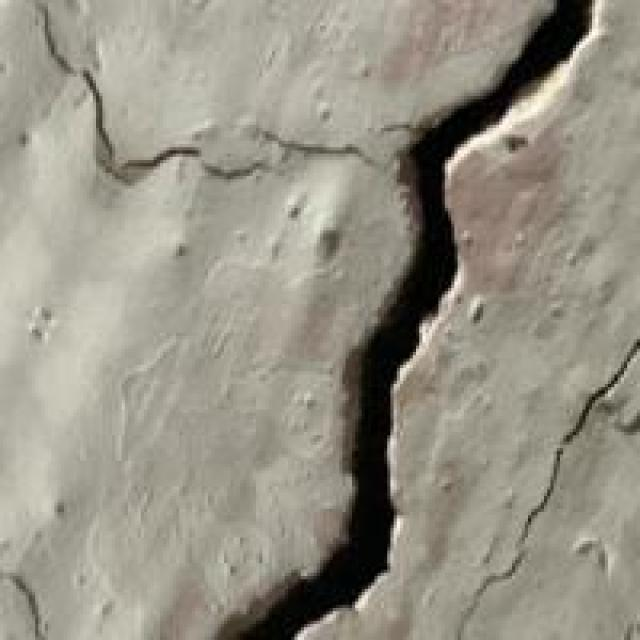Crack: (198, 0, 637, 637)
